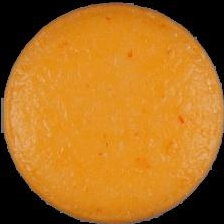68084-111: (0, 0, 224, 224)
